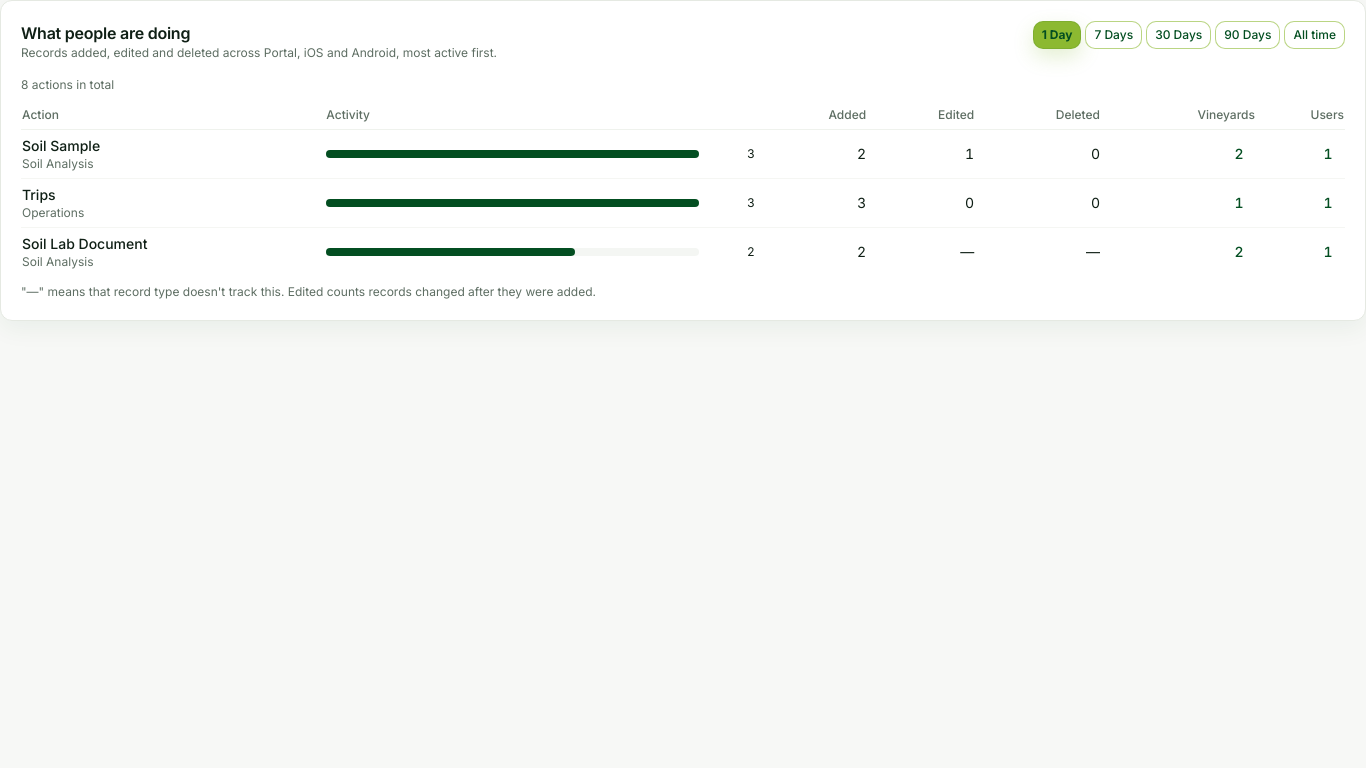
Test case: What people are doing — soil activity › opens the lab document uploader list
Expected: the text "Soil Lab Document" is shown, [22,235,148,252]
Click the button named "Soil Lab Document: 1 users": (1328, 252) [1312,242,1344,262]
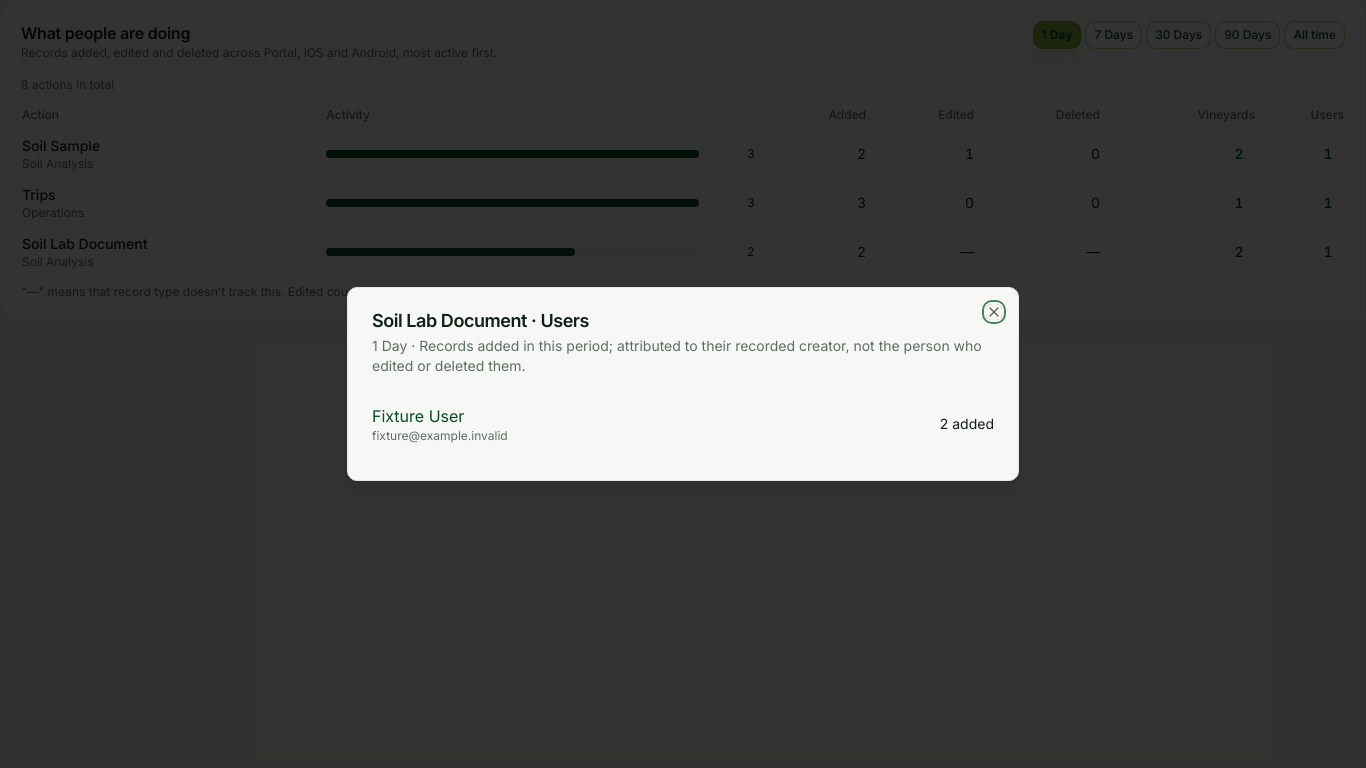
Now the link "Fixture User" is shown, box [372,406,464,426]
